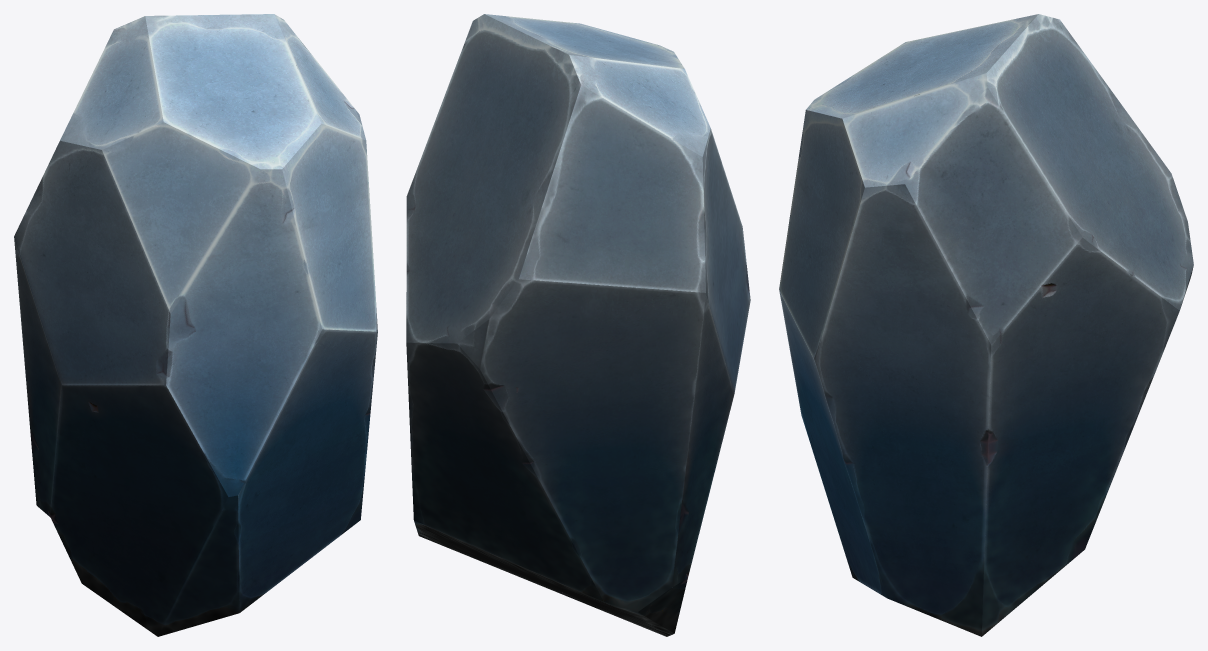
The model's file is berg2.glb.
The picture shows the model from 3 angles, left to right: view 1: azimuth 30°, elevation 25°; view 2: azimuth 150°, elevation 25°; view 3: azimuth 270°, elevation 25°; orthographic projection. The views are drawn at different scales.
Parts seen in each view (by area): view 1: L_Rock_04; view 2: L_Rock_04; view 3: L_Rock_04.
Part boxes in pixels (left/top/right/bottom): L_Rock_04: left=14, top=14, right=377, bottom=636; L_Rock_04: left=406, top=14, right=750, bottom=636; L_Rock_04: left=779, top=14, right=1193, bottom=636.
Bounding box in the file's own units: 1.37 × 2.5 × 1.56.
Materials: 1 (1 with a texture image).
